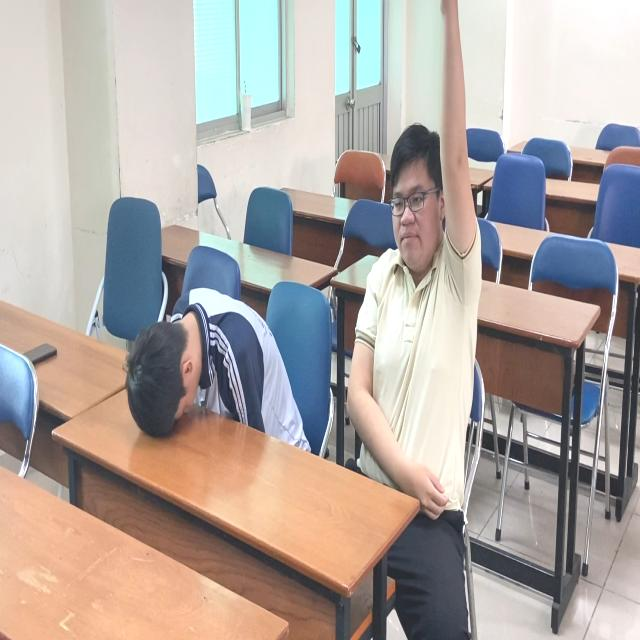raise_hand: (338, 1, 485, 451)
sleep: (117, 278, 307, 464)
